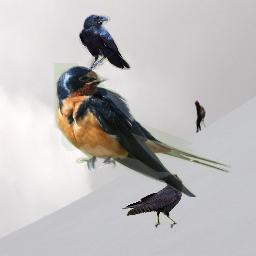Crow: (121, 174, 184, 228), (79, 14, 131, 70)
Swallow: (54, 63, 231, 197)
